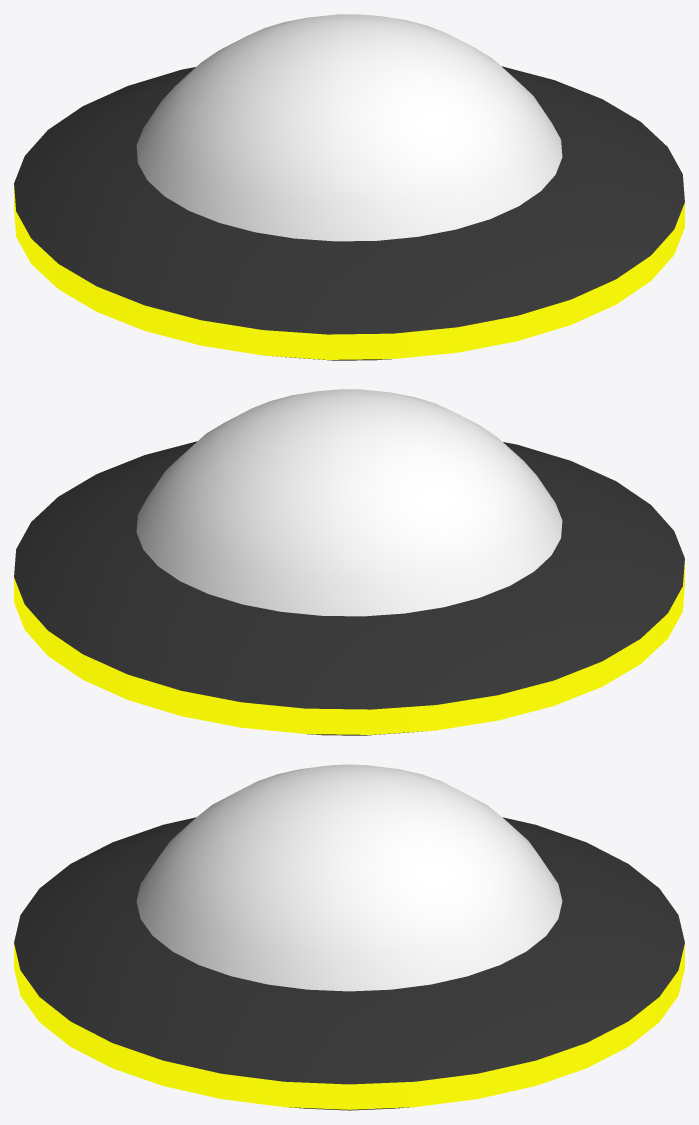
Rendered from ufo.fbx.
3 views of the same model, one above another, from view 1: azimuth 30°, elevation 25°; view 2: azimuth 150°, elevation 25°; view 3: azimuth 270°, elevation 25° (orthographic).
Visible parts, largest first — view 1: Cylinder, Sphere, Cylinder.001; view 2: Cylinder, Sphere, Cylinder.001; view 3: Cylinder, Sphere, Cylinder.001.
Part boxes in pixels (bbox=[...]): Cylinder: bbox=[14, 66, 684, 360]; Sphere: bbox=[136, 14, 562, 241]; Cylinder.001: bbox=[14, 186, 684, 359]; Cylinder: bbox=[14, 441, 684, 735]; Sphere: bbox=[136, 389, 562, 616]; Cylinder.001: bbox=[14, 561, 684, 734]; Cylinder: bbox=[14, 817, 684, 1110]; Sphere: bbox=[136, 764, 562, 991]; Cylinder.001: bbox=[14, 943, 684, 1109].
Size of the model in its own units: 421 by 163 by 421.
